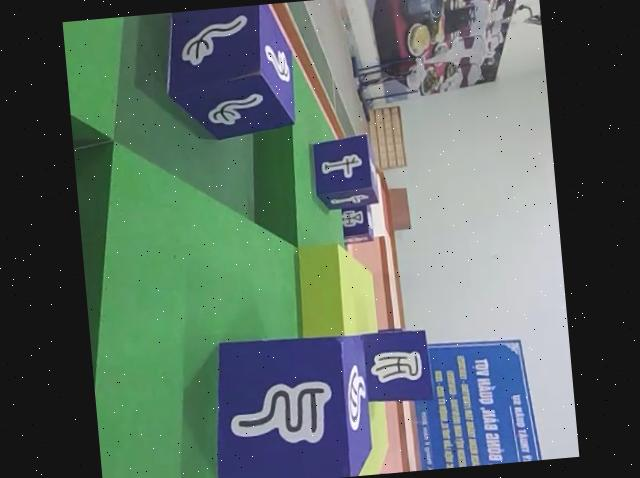R2 Fake Blue: (200, 329, 376, 478), (356, 323, 433, 404)
R2 Real Blue: (154, 2, 295, 142), (307, 135, 378, 213), (337, 200, 372, 243)
